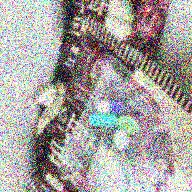러키펜정: (114, 131, 129, 151)
씨엠지세파클러캡슐: (97, 100, 125, 116)
에르도캡슐: (89, 113, 117, 128)
휴티렌정: (117, 116, 139, 135)
